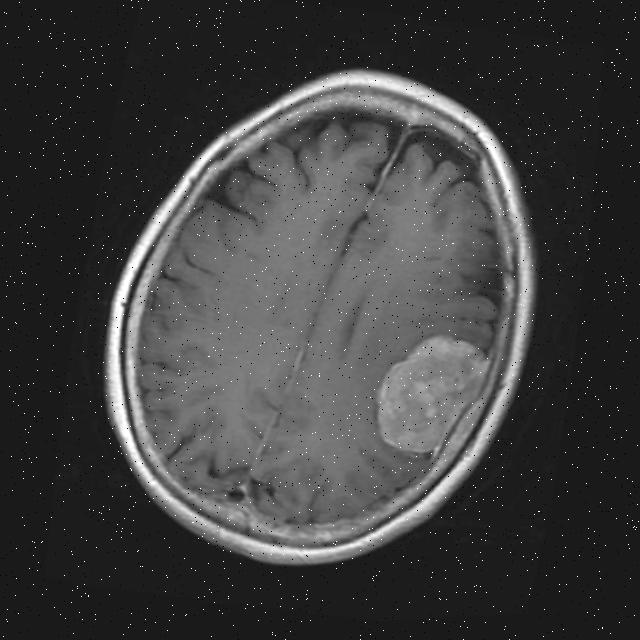Meningioma: (364, 321, 495, 467)
